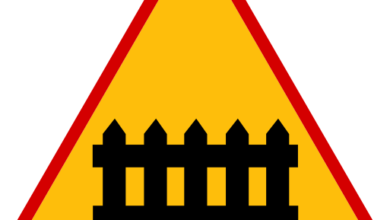a9: (87, 117, 304, 220)
